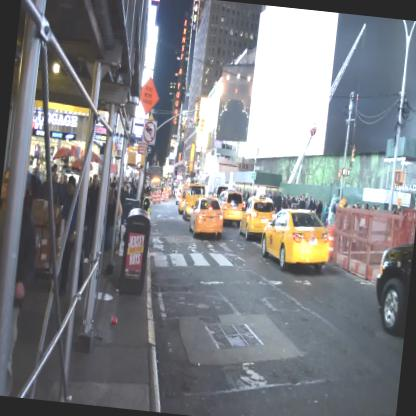car: (371, 207, 415, 341), (258, 204, 332, 274), (237, 194, 275, 243), (188, 197, 226, 243), (214, 189, 246, 229), (182, 182, 205, 220)
